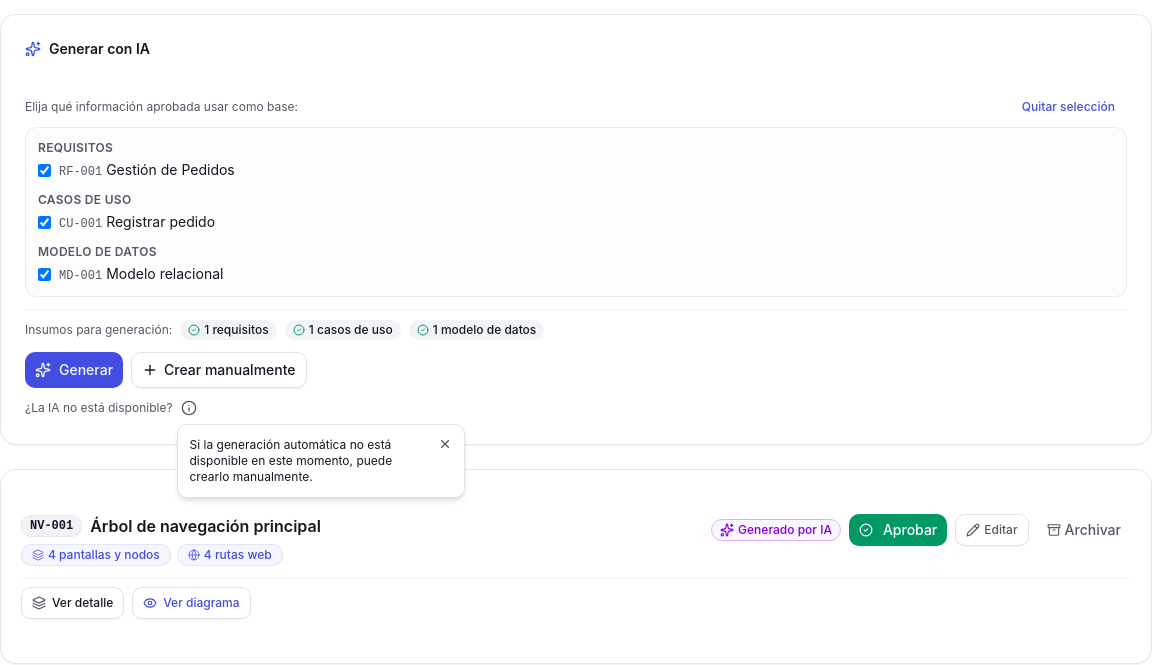
Test: NavigationPage › filters navigation nodes by search query in real time
This screenshot has width=1152, height=665.
Click the button "Ver detalle". click: (73, 603)
box: [21,587,124,619]
(page scrolled)
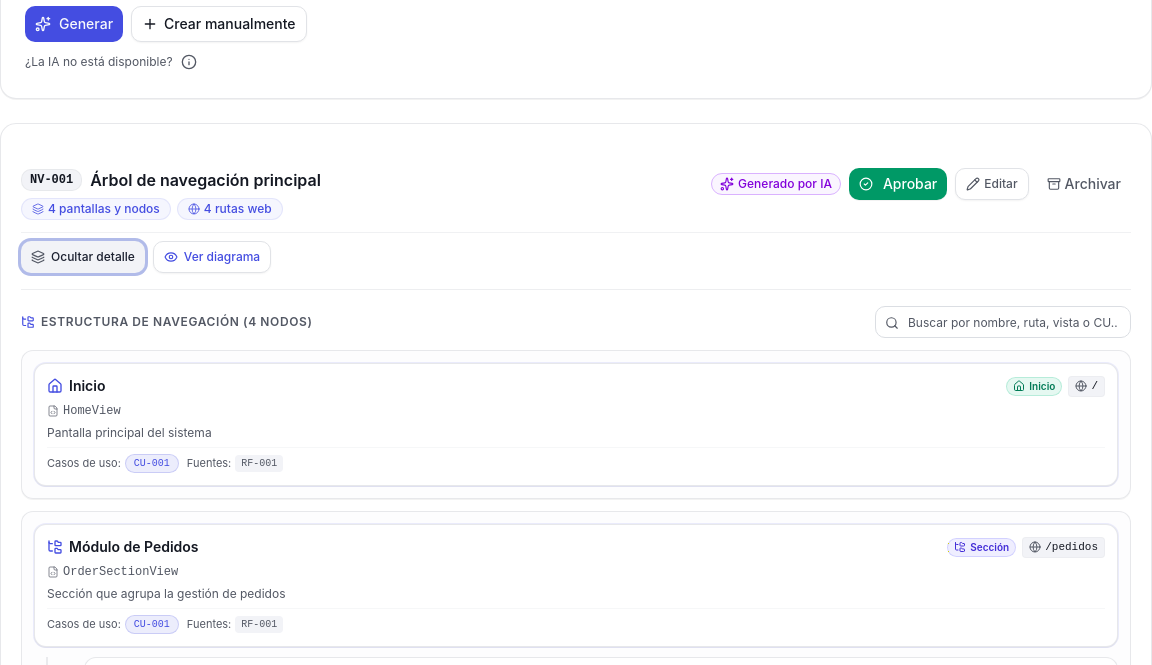
Type "nuevo" into the search field with placeholder "Buscar por nombre, ruta, vista o CU…". click: (1003, 322)
box: [875,306,1131,338]
(page scrolled)
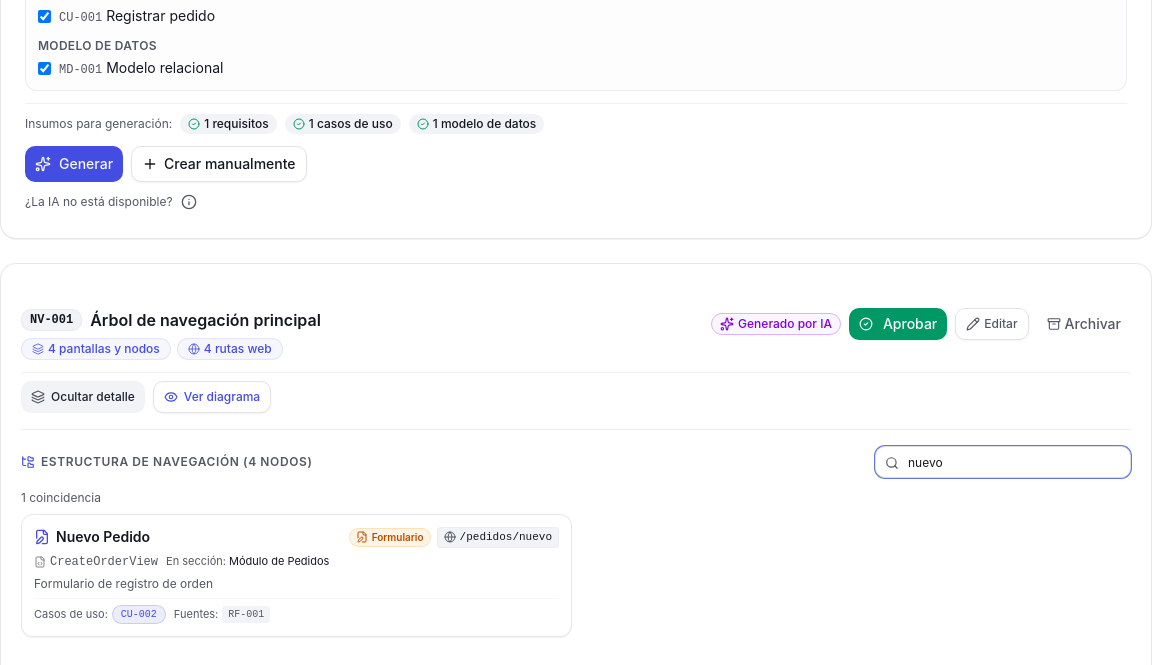
Check: the text "Nuevo Pedido" is shown, box [56,527,150,547]
Check: the text "1 coincidencia" is shown, box [21,490,101,505]
Check: the text "HomeView" is gone
// Clear search
Clear the search field with placeholder "Buscar por nombre, ruta, vista o CU…". click: (1003, 462)
box: [875,446,1131,478]
(page scrolled)
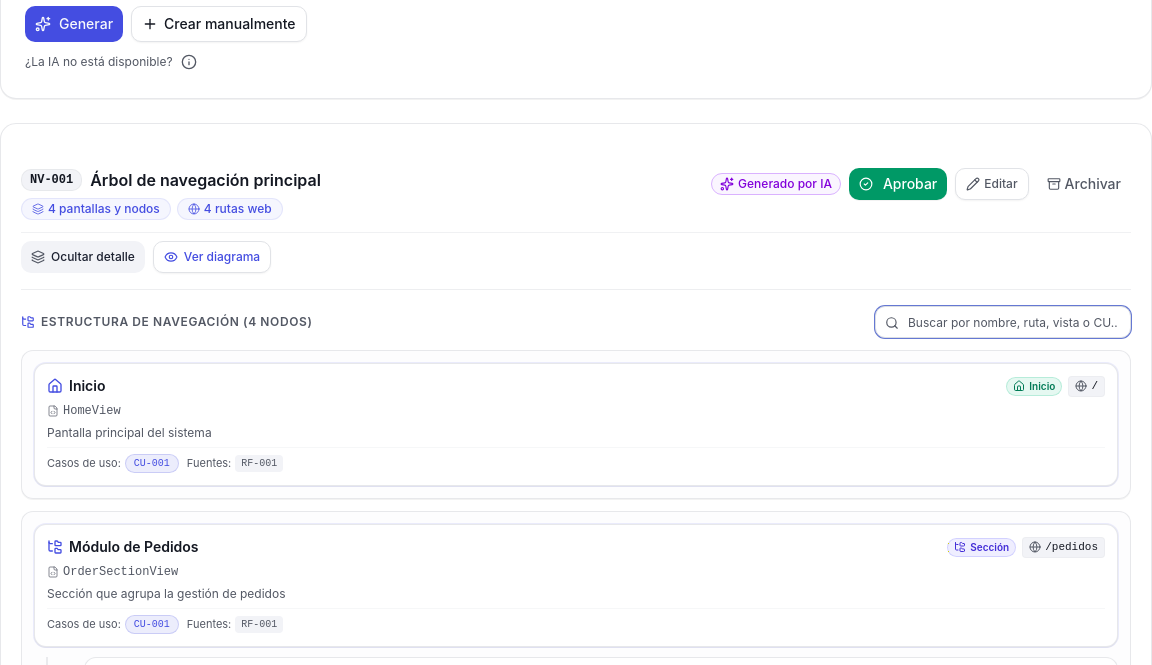
Check: the text "HomeView" is shown, box [47,403,121,419]
// Nonexistent filter
Type "inexistente" into the search field with placeholder "Buscar por nombre, ruta, vista o CU…". click: (1003, 322)
box: [875,306,1131,338]
(page scrolled)
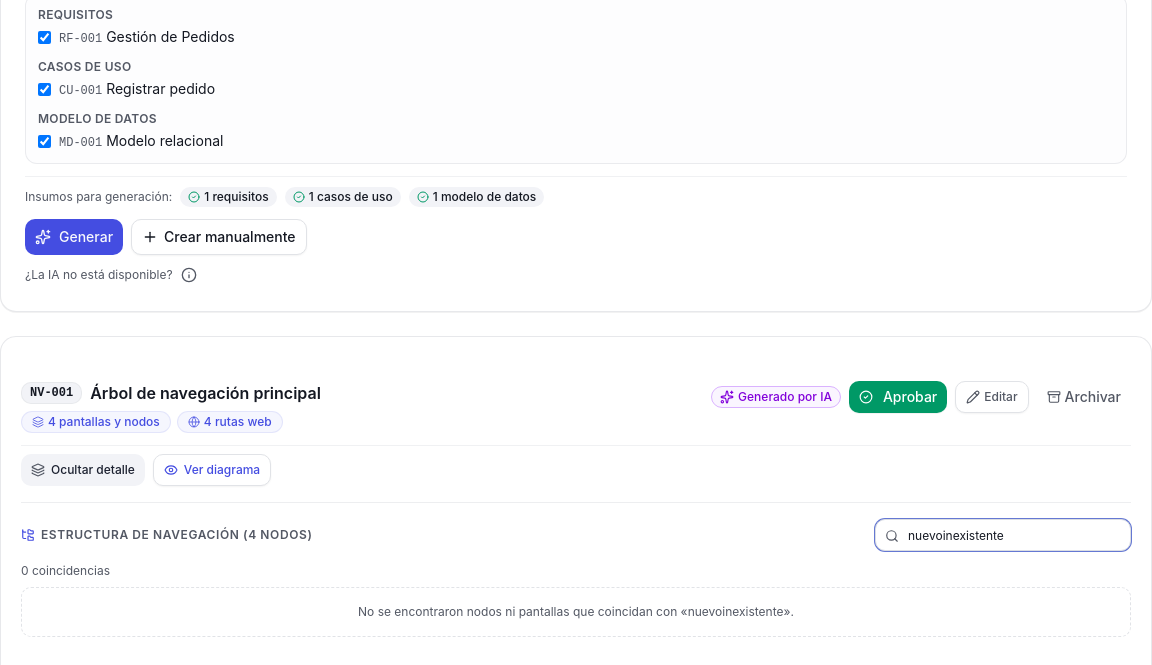
Check: the text "No se encontraron nodos ni pantallas que coincidan" is shown, box [358,604,688,619]
